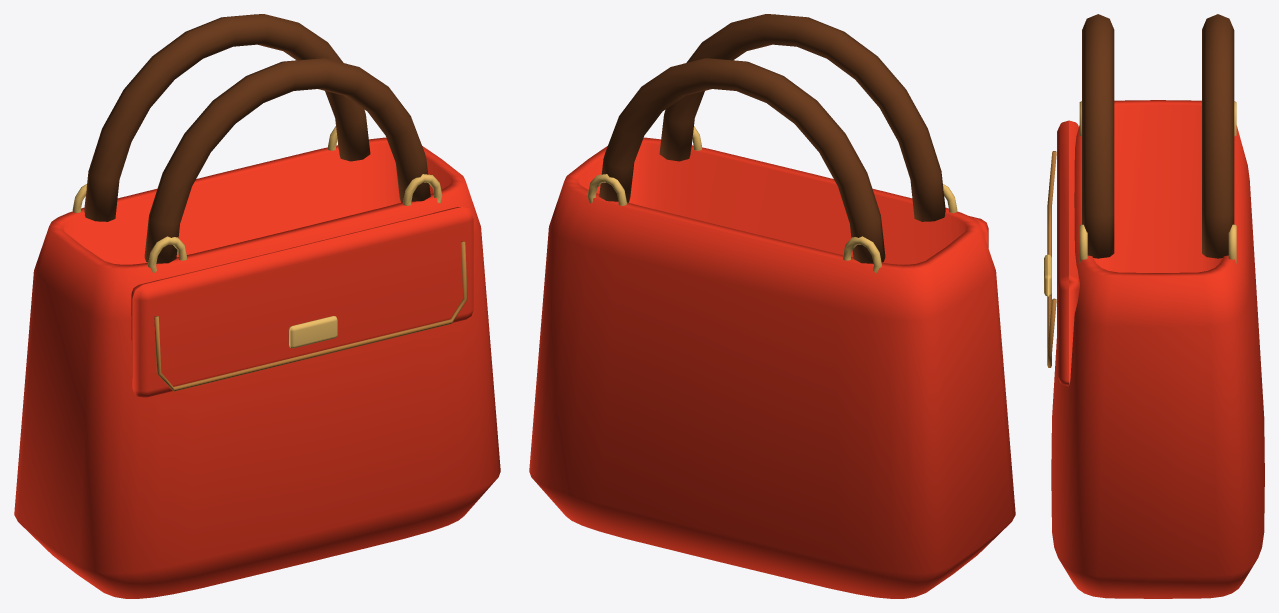
Rendered from 05_Handbag.glb.
3 views of the same model, side by side, from view 1: azimuth 30°, elevation 25°; view 2: azimuth 150°, elevation 25°; view 3: azimuth 270°, elevation 25° (orthographic).
Parts seen in each view (by area): view 1: 05_Handbag_EXPORT; view 2: 05_Handbag_EXPORT; view 3: 05_Handbag_EXPORT.
Part boxes in pixels (x1=…): 05_Handbag_EXPORT: x1=14, y1=14, x2=500, y2=598; 05_Handbag_EXPORT: x1=529, y1=14, x2=1015, y2=598; 05_Handbag_EXPORT: x1=1044, y1=14, x2=1264, y2=598.
Bounding box in the file's own units: 0.594 × 0.662 × 0.273.
